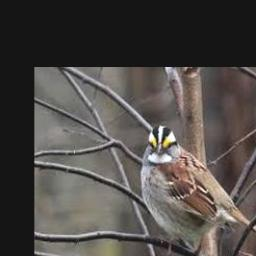Sparrow: (140, 125, 256, 256)
